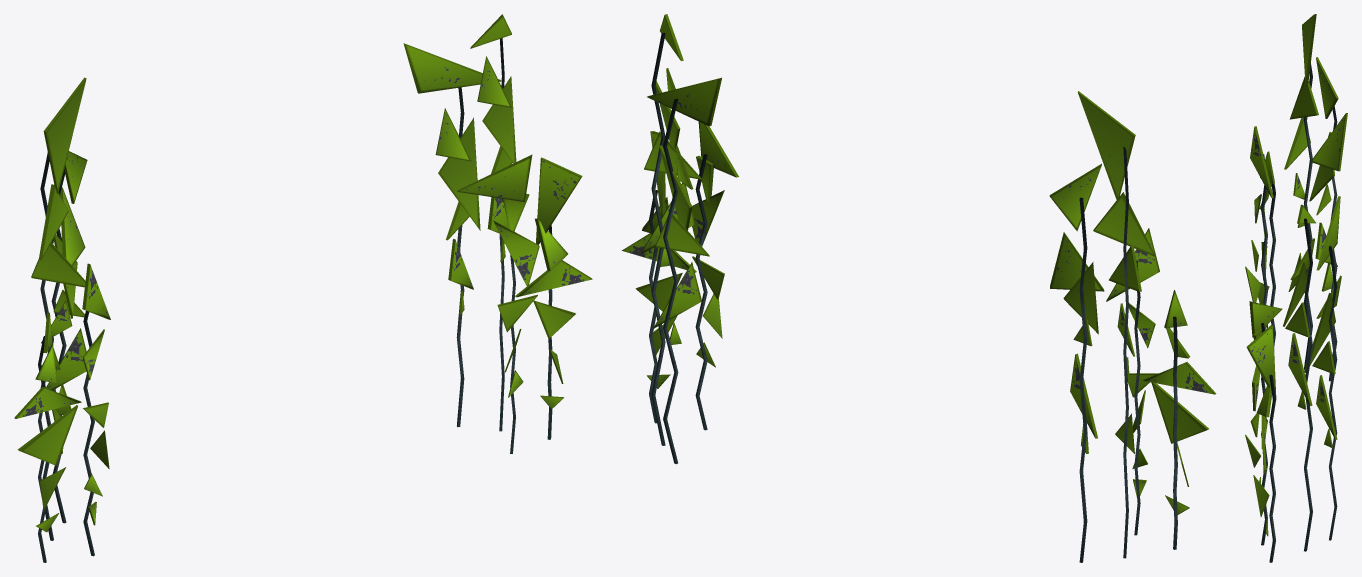
Rendered from tree.fbx.
3 views of the same model, side by side, from view 1: azimuth 30°, elevation 25°; view 2: azimuth 150°, elevation 25°; view 3: azimuth 270°, elevation 25° (orthographic). The views are drawn at different scales.
Visible parts, largest first — view 1: tree_leaf, tree; view 2: tree_leaf, tree; view 3: tree_leaf, tree.
Part boxes in pixels (box(x1,y1,x2,y2)): tree_leaf: box(14, 14, 592, 532); tree: box(38, 38, 552, 562); tree_leaf: box(622, 14, 1216, 514); tree: box(649, 32, 1177, 562); tree_leaf: box(1245, 14, 1347, 536); tree: box(1261, 63, 1337, 562).
Size of the model in its own units: 545 by 405 by 102.
